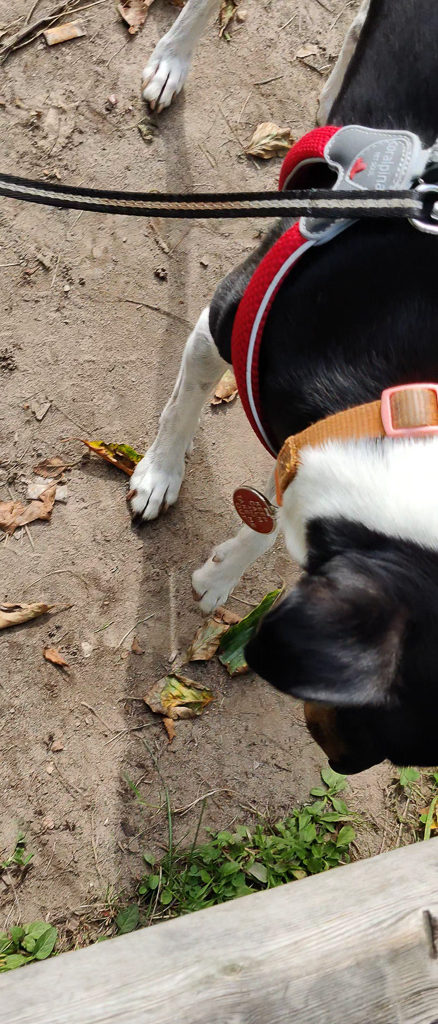Dog: (98, 0, 438, 819)
